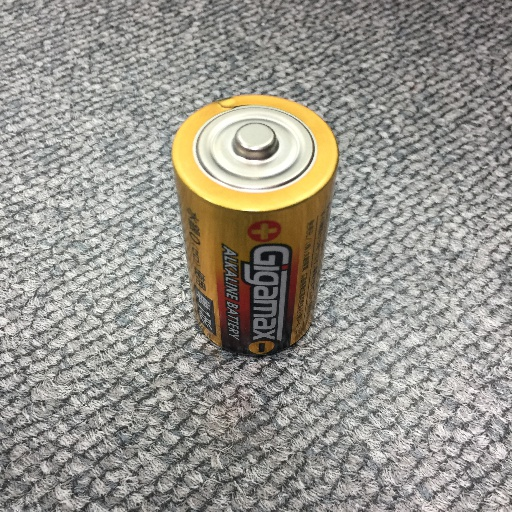Battery_0: (158, 82, 353, 376)
